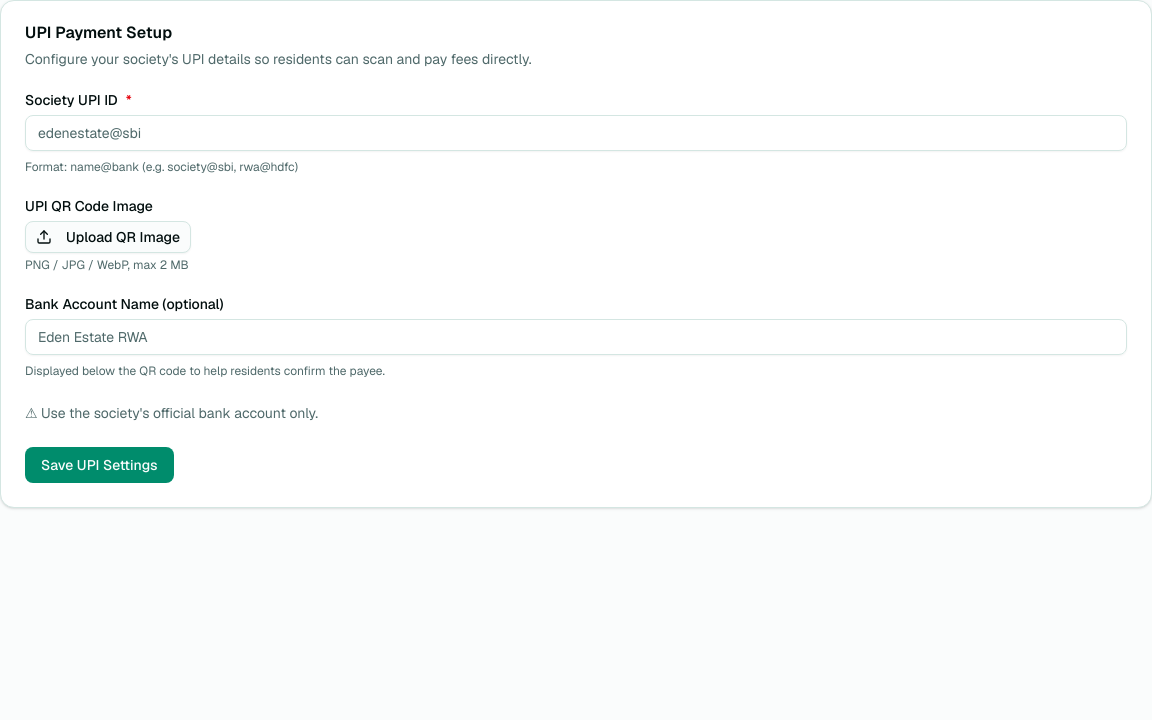
Test: PaymentSetupForm › shows validation error for missing UPI ID on submit
The image size is (1152, 720).
Click the button "Save UPI Settings": (99, 465) [25,447,174,483]
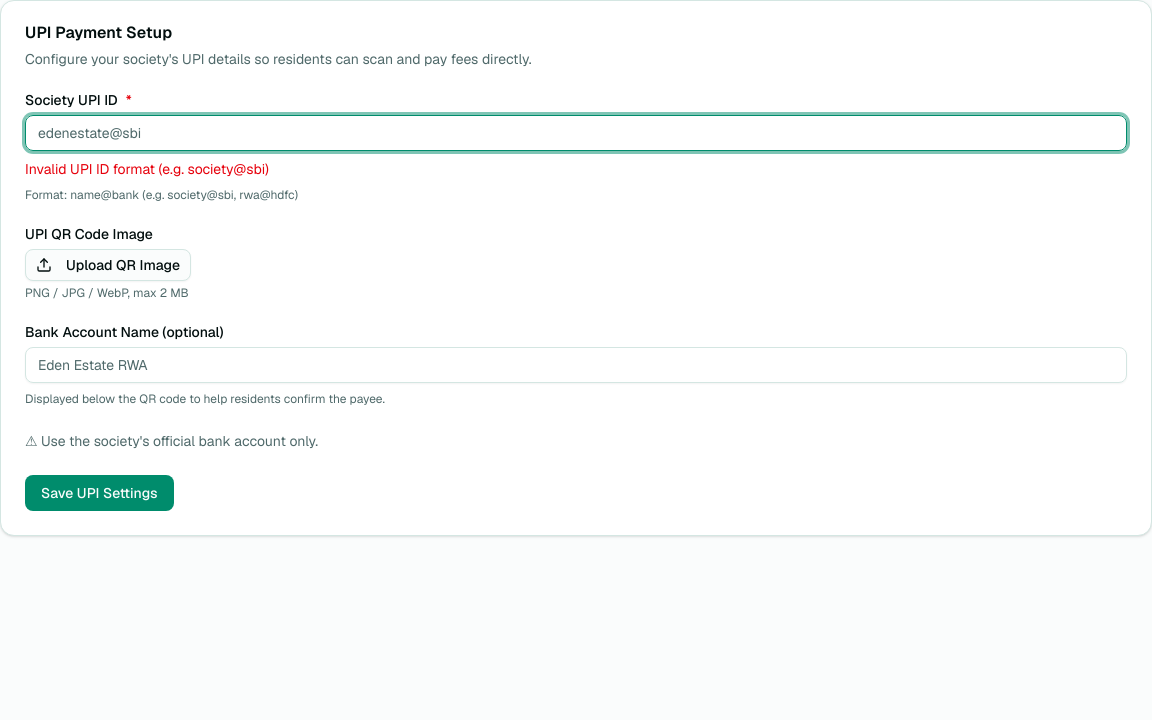
Check: the text "Invalid UPI ID format (e.g. society@sbi)" is shown, box [25,160,269,178]
